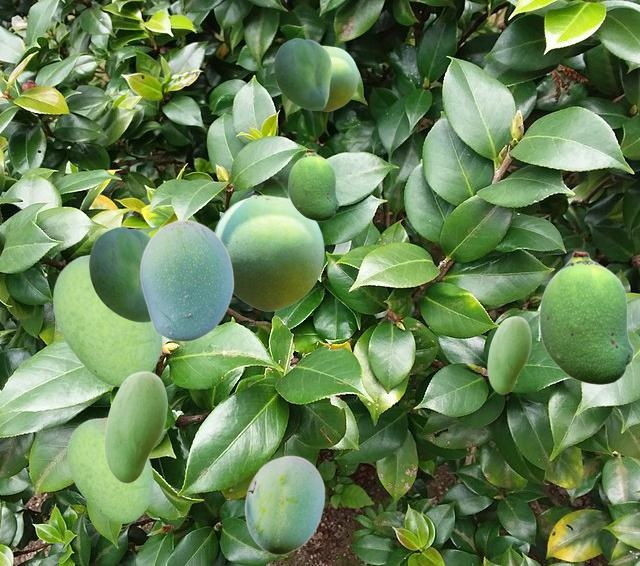green_mango: (53, 254, 161, 386), (214, 194, 323, 310), (539, 251, 633, 384), (139, 219, 233, 341), (67, 417, 152, 522), (244, 455, 324, 554), (104, 371, 166, 482), (89, 227, 151, 321), (274, 38, 330, 109), (288, 149, 338, 220), (487, 316, 530, 393), (319, 45, 357, 110)
